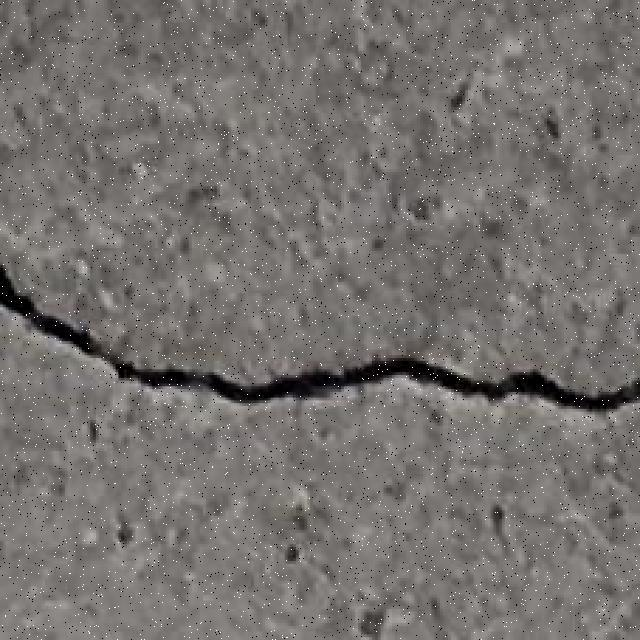crack: (1, 263, 638, 412)
